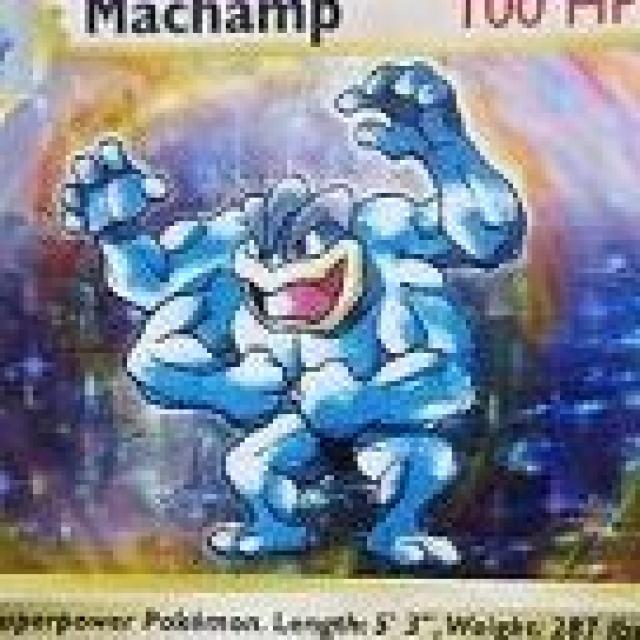Machamp: (57, 54, 554, 583)
